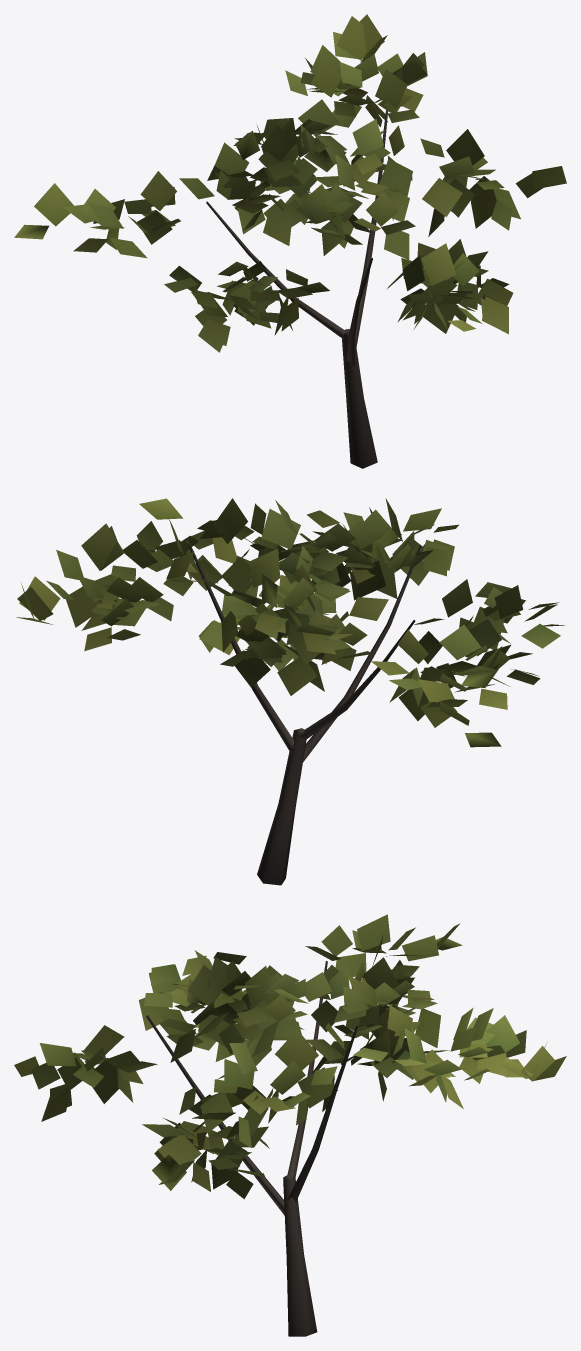
File: acacia-b.lod2.glb
The picture shows the model from 3 angles, top to bottom: view 1: azimuth 30°, elevation 25°; view 2: azimuth 150°, elevation 25°; view 3: azimuth 270°, elevation 25°; orthographic projection. The views are drawn at different scales.
Bounding box in the file's own units: 9.93 × 7.47 × 10.27.
